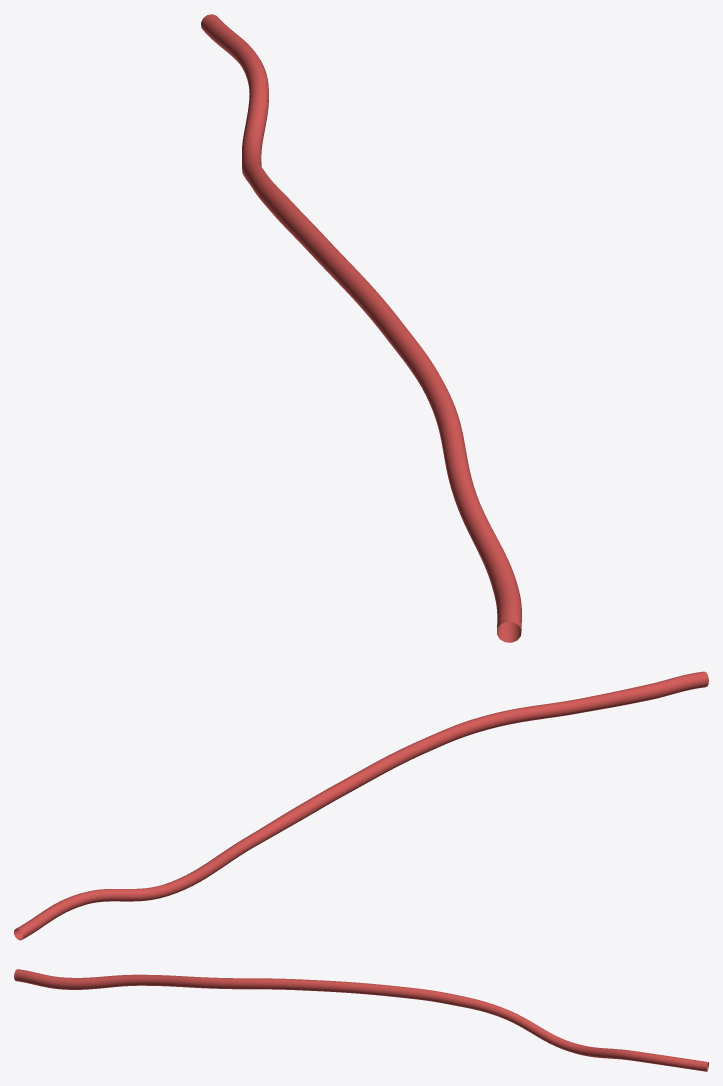
3 renders of one model, top to bottom at view 1: azimuth 30°, elevation 25°; view 2: azimuth 150°, elevation 25°; view 3: azimuth 270°, elevation 25°, orthographic. The views are drawn at different scales.
Parts seen in each view (by area): view 1: 左侧肱动脉; view 2: 左侧肱动脉; view 3: 左侧肱动脉.
Boxes of the visible parts, x1,y1,x2,y2 form: 左侧肱动脉: (201, 14, 521, 642); 左侧肱动脉: (14, 671, 708, 940); 左侧肱动脉: (14, 969, 708, 1071).
Size of the model in its own units: 0.1384 by 0.0269 by 0.4072.
